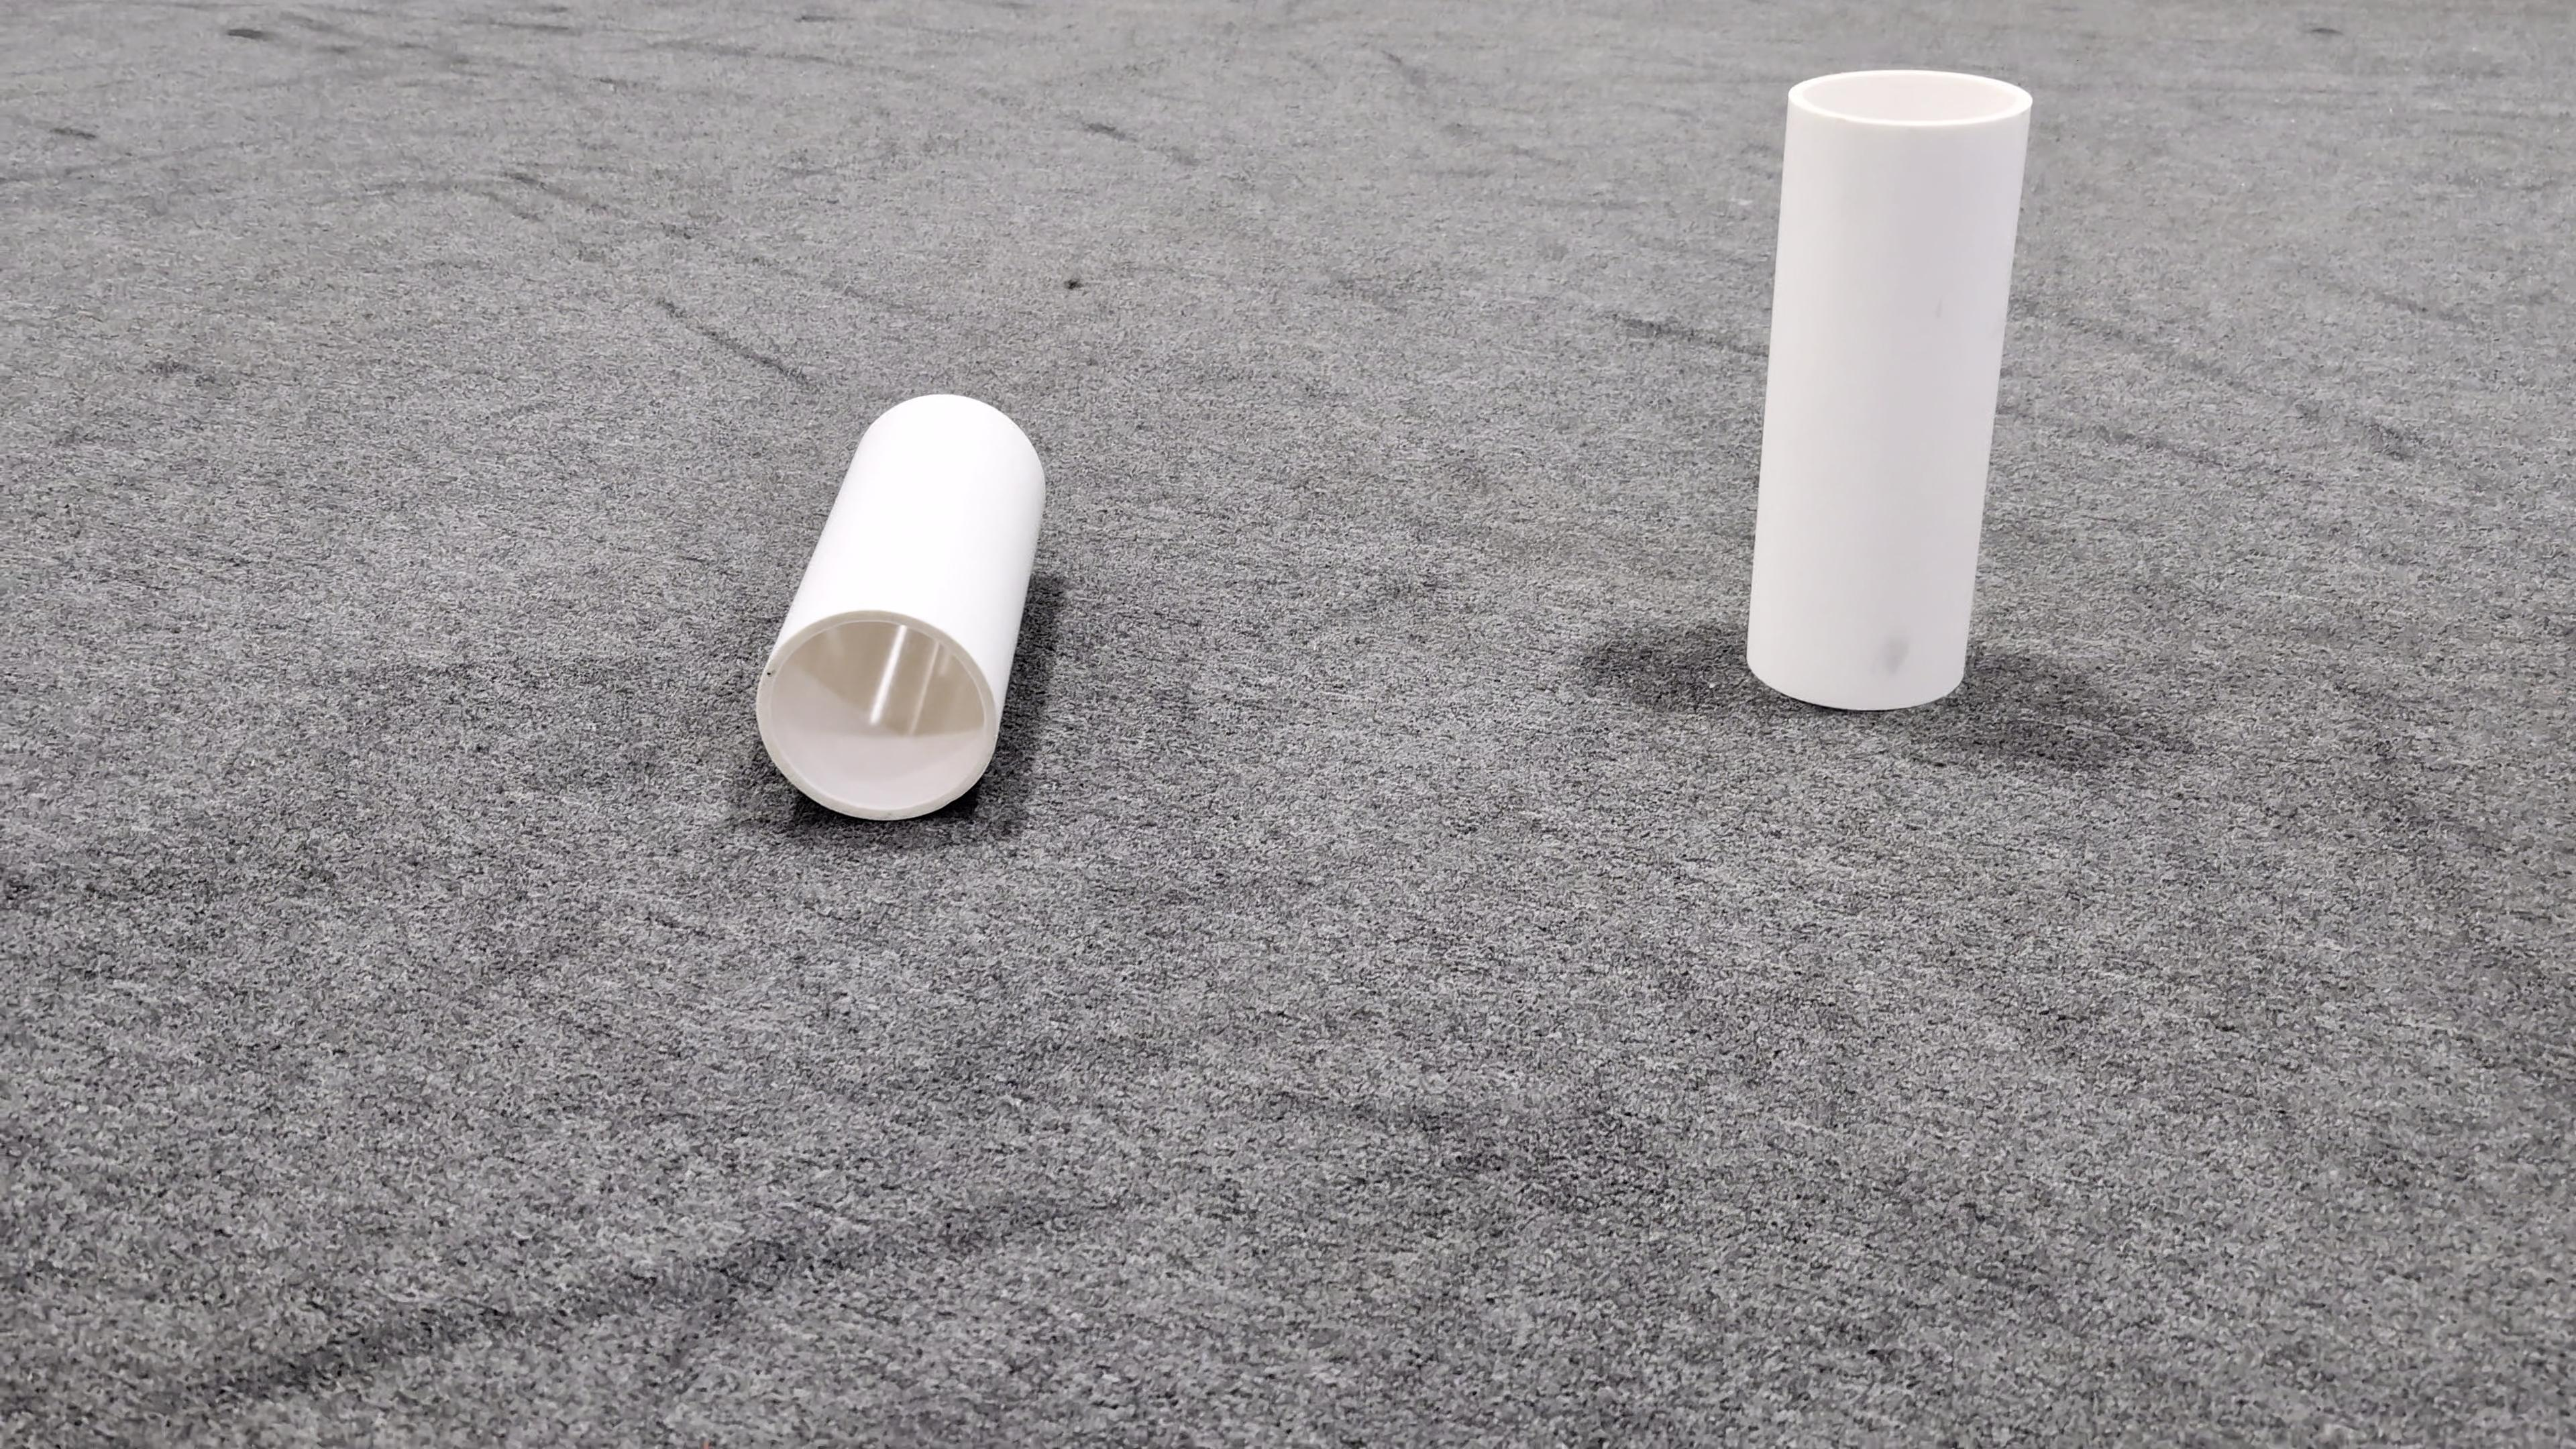coral: (1741, 65, 2035, 713), (754, 393, 1049, 821)
